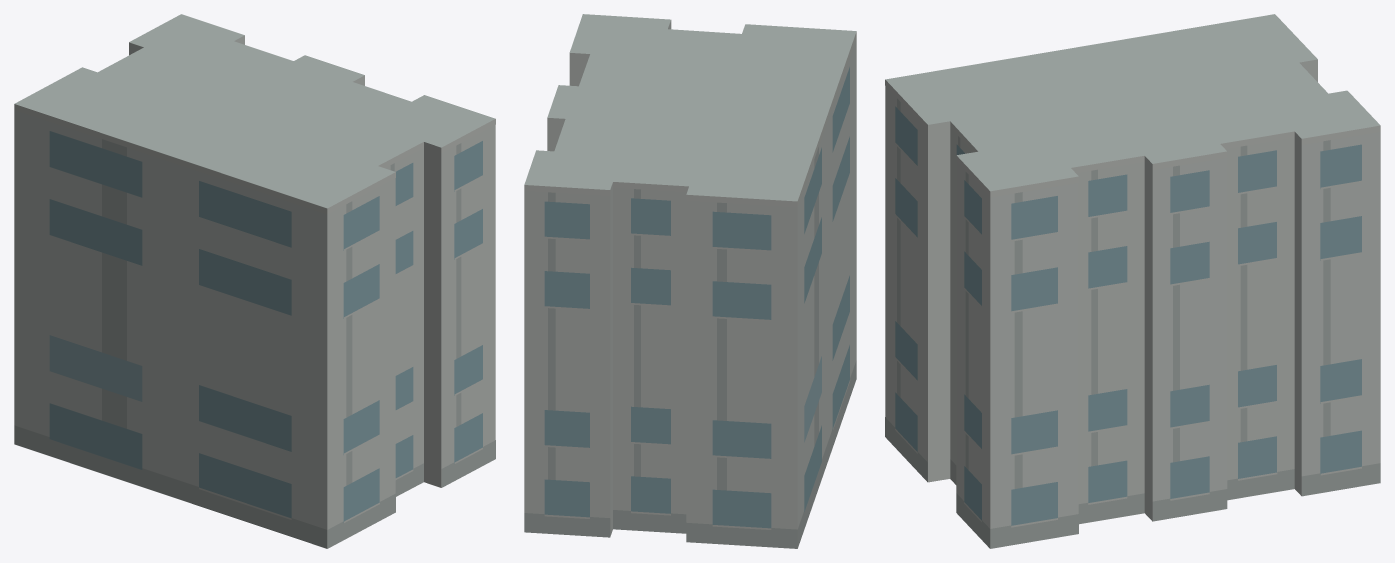
File: survey-upis-32883430.glb
3 renders of one model, left to right at view 1: azimuth 30°, elevation 25°; view 2: azimuth 150°, elevation 25°; view 3: azimuth 270°, elevation 25°, orthographic. The views are drawn at different scales.
Visible parts, largest first — view 1: survey-upis-32883430.tmp; view 2: survey-upis-32883430.tmp; view 3: survey-upis-32883430.tmp.
Boxes of the visible parts, x1,y1,x2,y2 form: survey-upis-32883430.tmp: (14, 14, 495, 548); survey-upis-32883430.tmp: (524, 14, 856, 548); survey-upis-32883430.tmp: (885, 14, 1380, 548).
Size of the model in its own units: 15.11 by 14.2 by 17.84.
